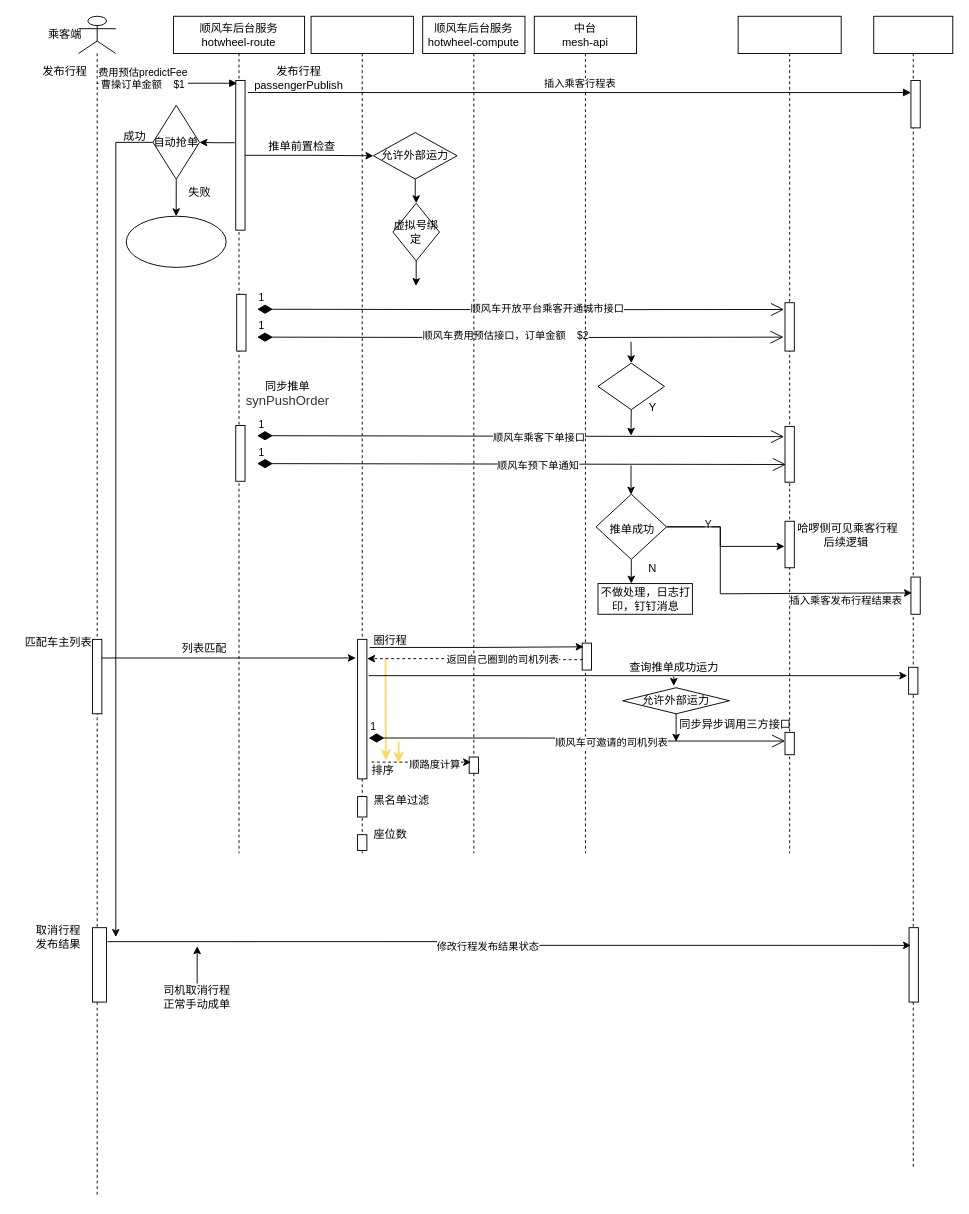
Image size: 969x1214. Some labels were removed from this diagram. Here are the shapes that lost their labels. From the top down, the box of each, then its label:
(125, 215, 226, 267): 正常手动 成单逻辑
(597, 362, 664, 410): $1 VS $2
(310, 15, 413, 853): 顺风车后台服务 hotwheel-agg
(737, 15, 841, 853): 三方运力 哈啰
(873, 15, 953, 1169): DB
